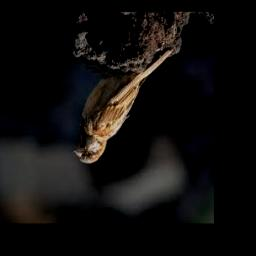Sparrow: (73, 48, 173, 165)
